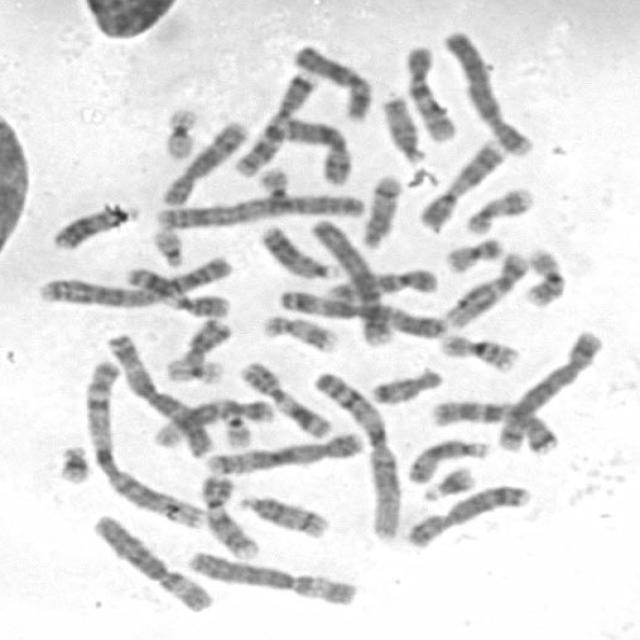A1: (78, 354, 206, 530), (306, 365, 405, 541)
A2: (34, 250, 237, 309), (150, 187, 369, 230)
A3: (101, 329, 213, 459), (272, 284, 450, 339)
B4: (438, 24, 537, 158), (304, 211, 398, 348)
B5: (488, 323, 606, 454), (201, 427, 367, 476)
C10: (398, 39, 460, 144), (320, 263, 440, 303)
C11: (233, 354, 334, 440), (120, 262, 233, 319)
C12: (439, 246, 532, 330), (146, 392, 276, 449)
C6: (85, 508, 217, 614), (182, 544, 361, 608)
C7: (230, 64, 323, 178), (426, 394, 560, 456)
C8: (400, 478, 534, 550), (154, 114, 251, 207)
C9: (412, 134, 508, 232), (195, 469, 262, 559)
D13: (46, 197, 142, 252), (255, 219, 341, 280)
D14: (232, 487, 334, 540), (356, 169, 406, 249)
D15: (404, 433, 492, 485), (376, 89, 429, 165)
E16: (436, 327, 522, 374), (519, 243, 569, 308)
E17: (459, 181, 538, 236), (258, 308, 342, 355)
E18: (364, 362, 446, 406), (177, 314, 235, 368)
F19: (158, 101, 202, 161), (159, 351, 226, 385)
F20: (439, 230, 506, 274), (255, 164, 290, 215)
G21: (416, 460, 478, 502), (52, 438, 93, 486)
G22: (147, 221, 188, 268), (216, 402, 255, 449)
X: (289, 39, 376, 122), (276, 113, 354, 188)
